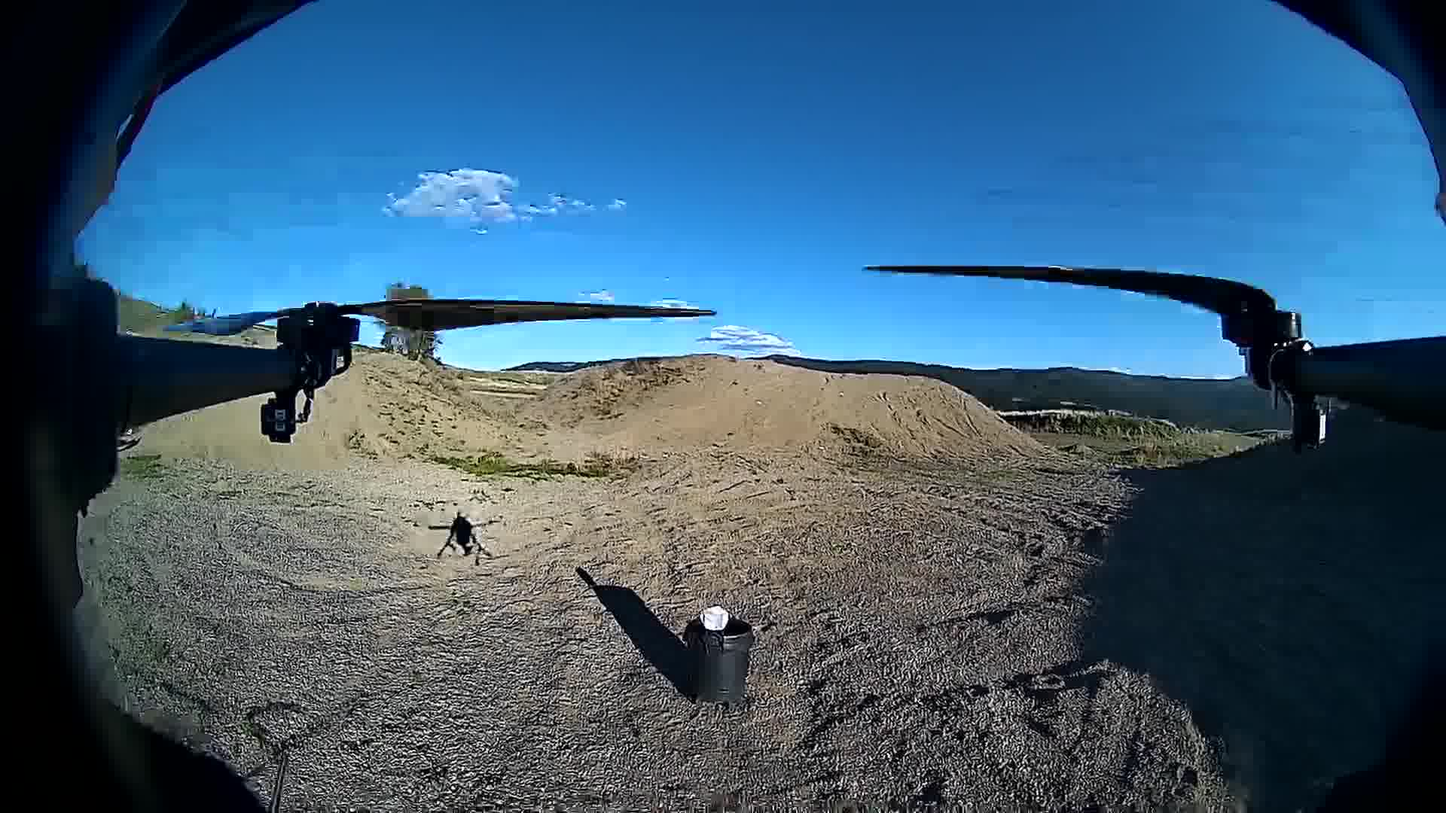Target: (698, 604, 730, 631)
